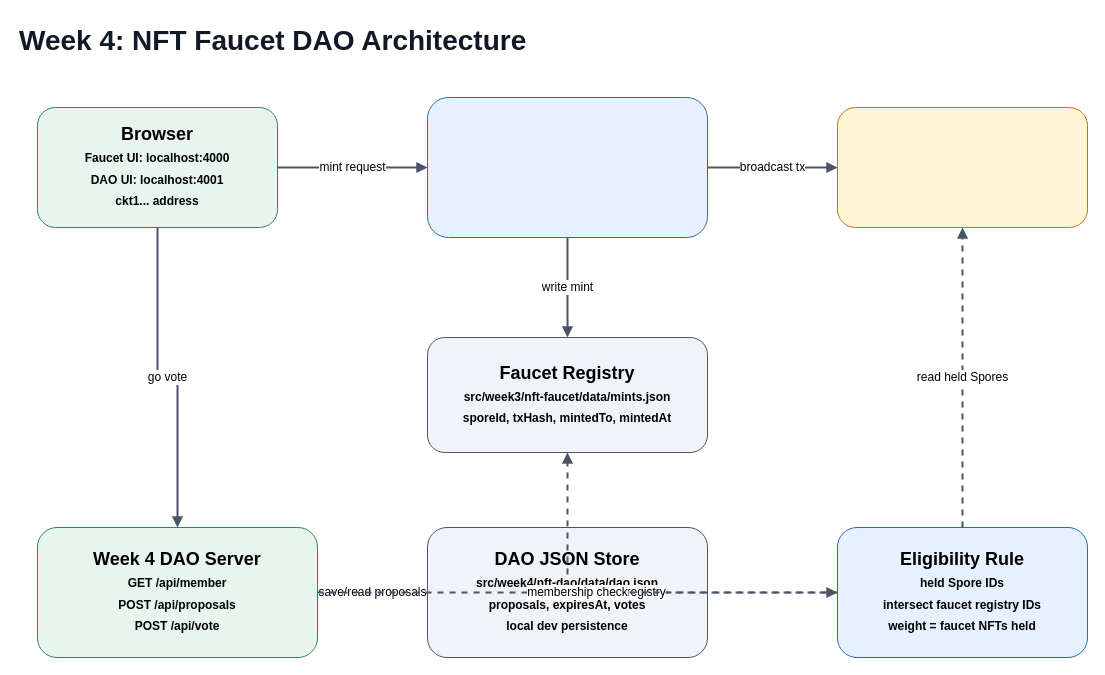
Image size: 1105x675. Some labels were removed from this diagram. Each missing label, with the centre of its shape:
"Pudge Testnet Live Spore cells Owner lock = recipient on-chain NFT state" belongs at point (962, 167).
"Week 3 NFT Faucet POST /api/mint createSpore + send tx records minted Spore IDs" belongs at point (567, 167).
